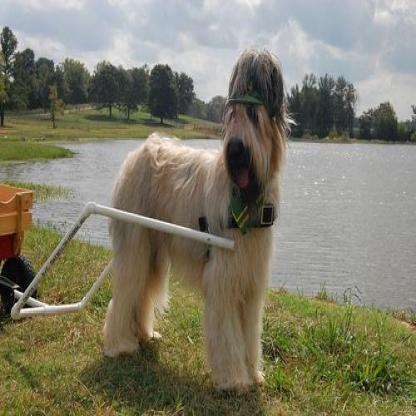briard: (101, 47, 296, 393)
